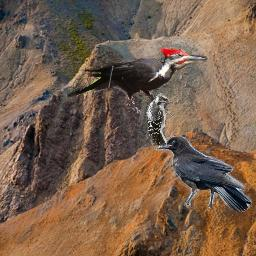Crow: (156, 136, 252, 212)
Woodpecker: (67, 47, 208, 115), (146, 93, 173, 147)
